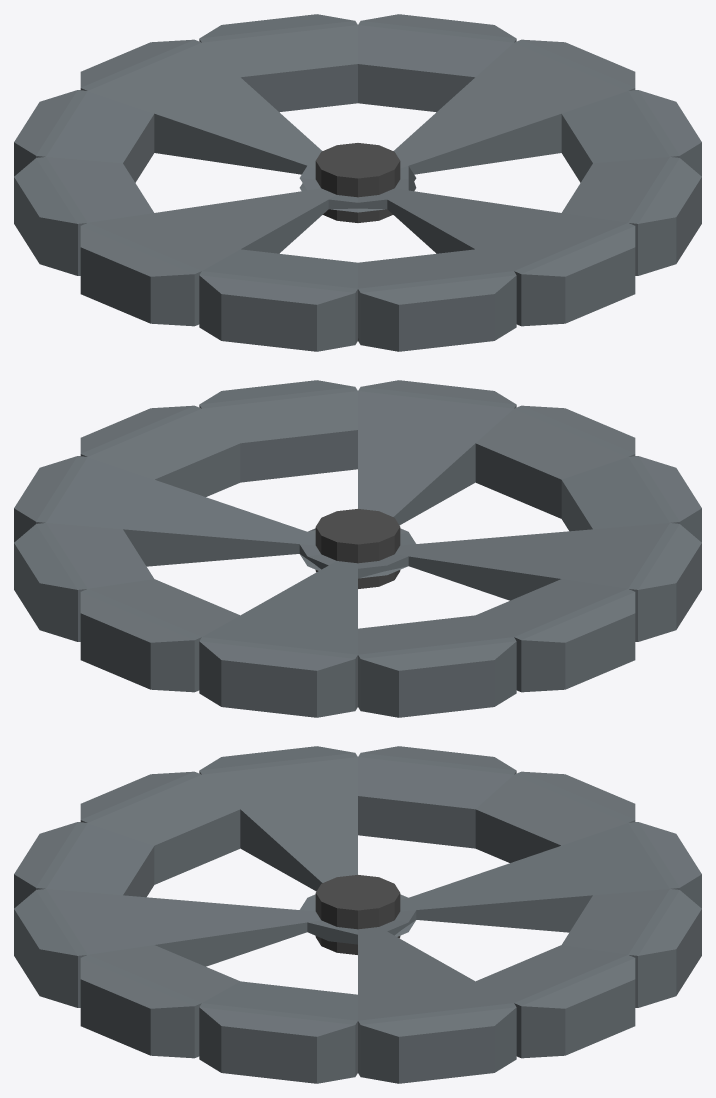
File: EngrenagemLowPoly02.fbx
3 views of the same model, one above another, from view 1: azimuth 30°, elevation 25°; view 2: azimuth 150°, elevation 25°; view 3: azimuth 270°, elevation 25° (orthographic).
Parts seen in each view (by area): view 1: Cylinder; view 2: Cylinder; view 3: Cylinder.
Part boxes in pixels (x1,y1,x2,y2): Cylinder: (14, 14, 701, 351); Cylinder: (14, 380, 701, 717); Cylinder: (14, 746, 701, 1083).
Size of the model in its own units: 332 by 27.76 by 332.
